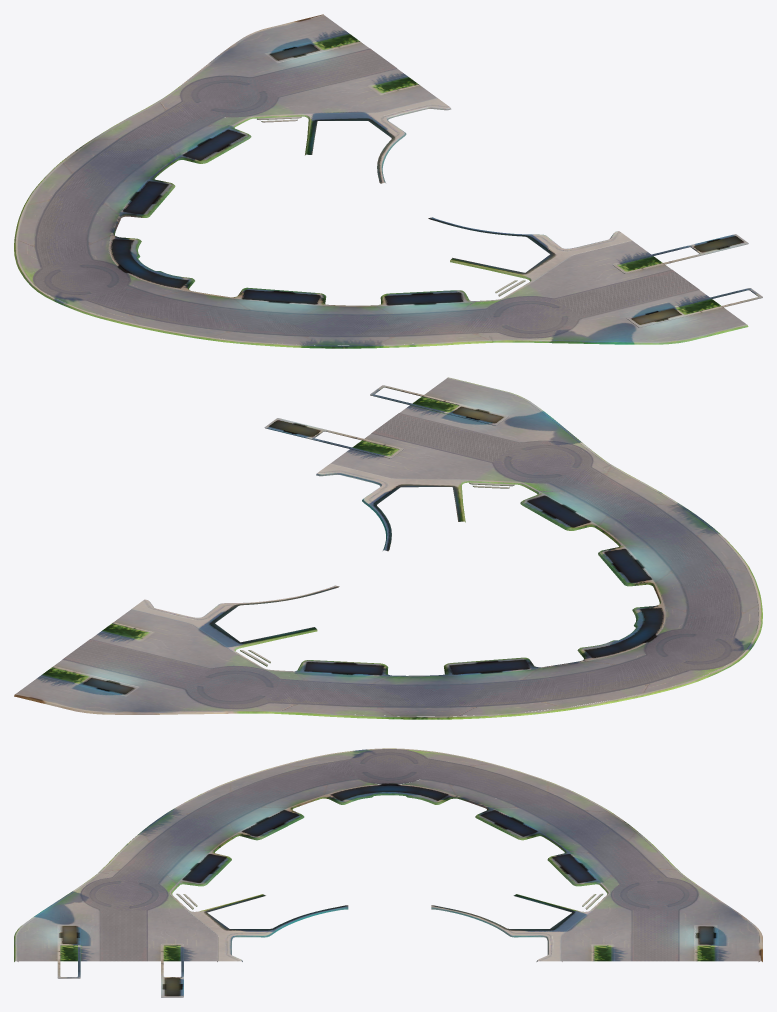
The model's file is pref_sm_beach_techsmall_001_bk_main_road02_lv1.fbx.
3 renders of one model, top to bottom at view 1: azimuth 30°, elevation 25°; view 2: azimuth 150°, elevation 25°; view 3: azimuth 270°, elevation 25°, orthographic. The views are drawn at different scales.
Visible parts, largest first — view 1: pref_sm_beach_techsmall_001_bk_main_road02_lv1; view 2: pref_sm_beach_techsmall_001_bk_main_road02_lv1; view 3: pref_sm_beach_techsmall_001_bk_main_road02_lv1.
Part boxes in pixels (x1,y1,x2,y2): pref_sm_beach_techsmall_001_bk_main_road02_lv1: [14, 14, 762, 348]; pref_sm_beach_techsmall_001_bk_main_road02_lv1: [14, 377, 762, 719]; pref_sm_beach_techsmall_001_bk_main_road02_lv1: [14, 748, 762, 997].
Size of the model in its own units: 55.5 by 0.2236 by 70.37.
